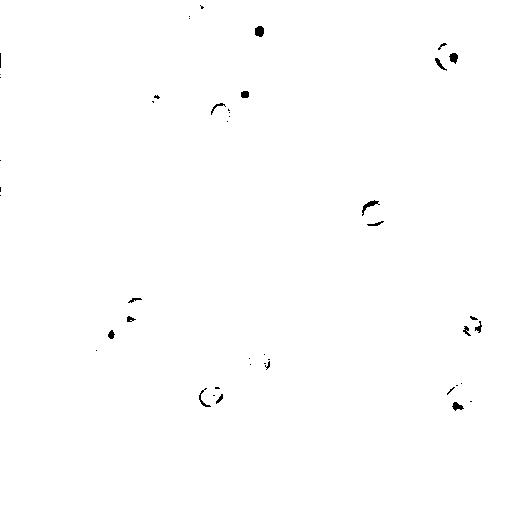micro-algae: (329, 128, 397, 196), (13, 433, 81, 501), (439, 274, 496, 323), (439, 379, 483, 419), (241, 11, 281, 50), (91, 313, 127, 351), (145, 1, 197, 24), (225, 77, 262, 109), (440, 41, 471, 73), (431, 42, 461, 72), (357, 199, 388, 227), (123, 295, 152, 323), (187, 3, 215, 31), (320, 56, 347, 83), (189, 1, 229, 17), (207, 103, 232, 128), (459, 315, 485, 339), (249, 347, 271, 374), (2, 47, 25, 72), (199, 386, 221, 409)
